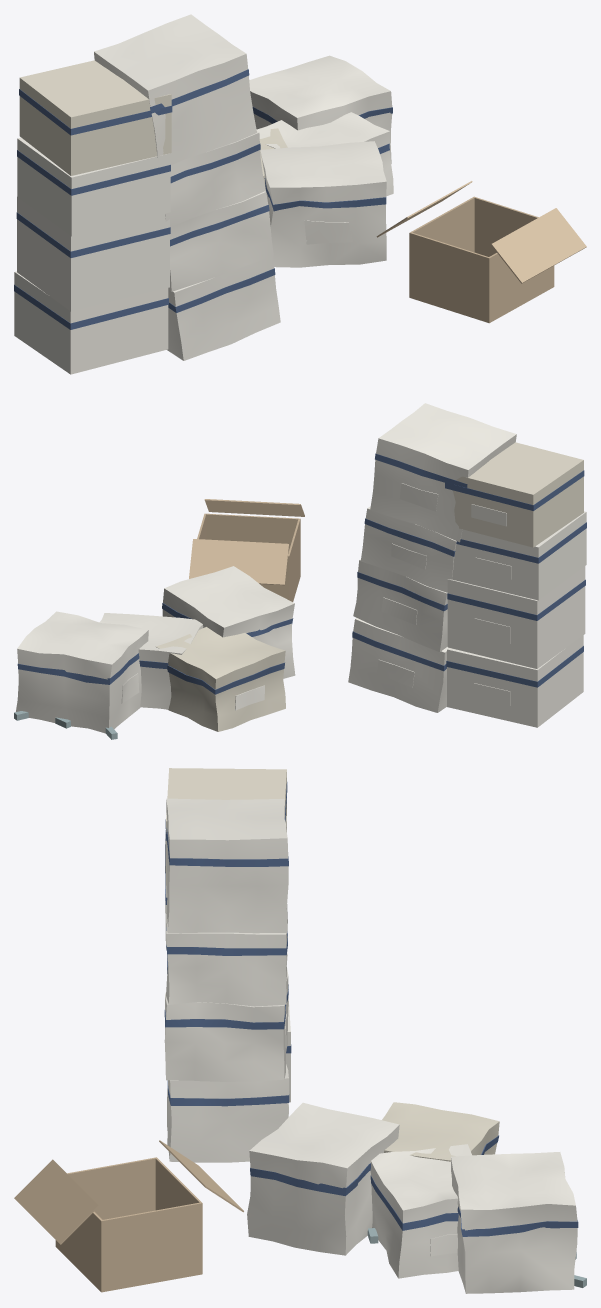
File: box_stack_broken.fbx
3 views of the same model, one above another, from view 1: azimuth 30°, elevation 25°; view 2: azimuth 150°, elevation 25°; view 3: azimuth 270°, elevation 25° (orthographic). The views are drawn at different scales.
Parts seen in each view (by area): view 1: box_stack_broken, box_stack_broken_debris; view 2: box_stack_broken, box_stack_broken_debris; view 3: box_stack_broken_debris, box_stack_broken.
Boxes of the visible parts, x1,y1,x2,y2 form: box_stack_broken: (14,14,280,374); box_stack_broken_debris: (249,55,586,323); box_stack_broken: (348,403,586,727); box_stack_broken_debris: (14,499,304,739); box_stack_broken_debris: (14,1102,586,1293); box_stack_broken: (164,768,291,1162).
Size of the model in its own units: 151 by 89.9 by 146.
